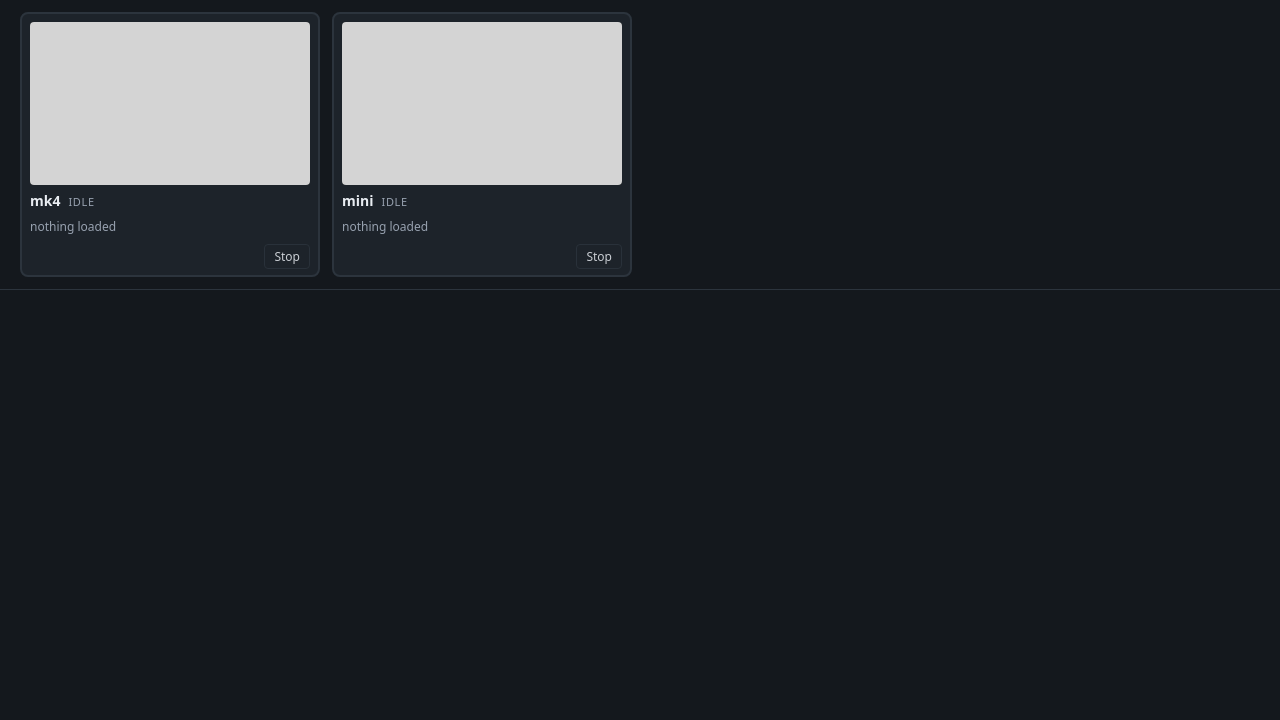
Test: the gallery of printers › the way to stop one › asks why, about only the printer asked about
The width and height of the screenshot is (1280, 720).
What coordinates should you click on to do the following:
click the button with aria-label "Stop mk4"
I would click on:
 (287, 256)
Its box is [264, 244, 310, 269].
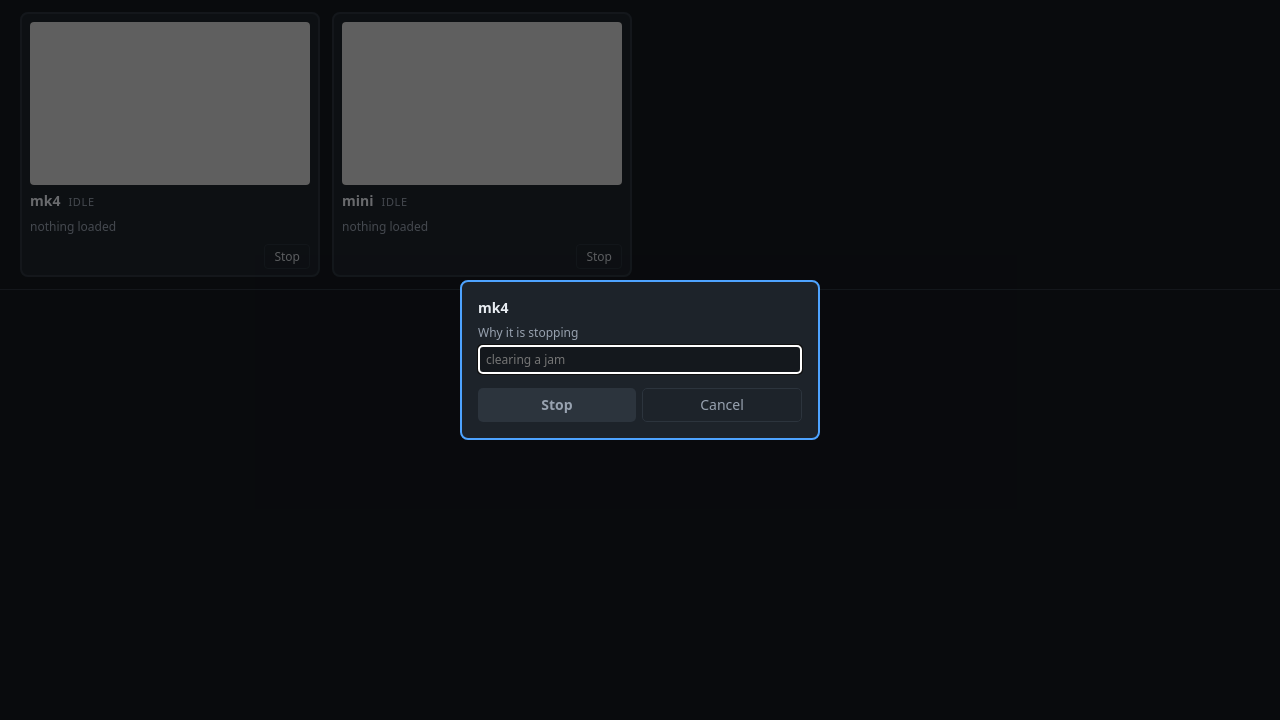
Check: the dialog named "Stop mk4" is shown, box [460, 280, 820, 440]
